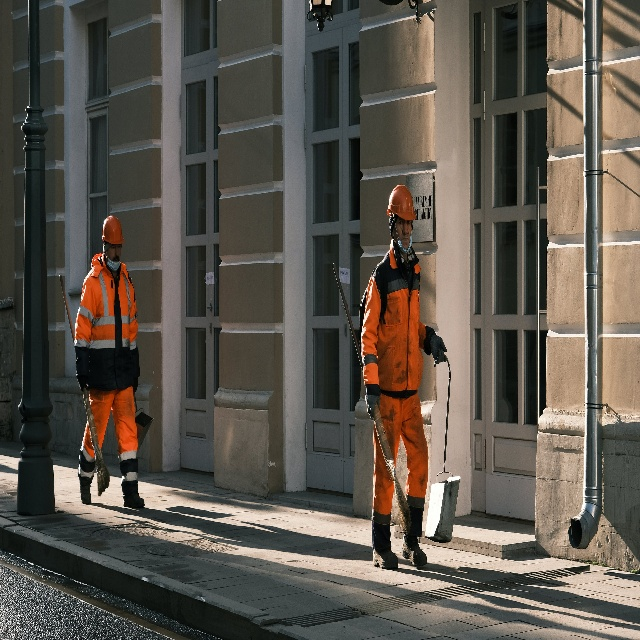Guantes: (430, 332, 447, 364), (364, 393, 380, 419), (133, 376, 139, 391)
